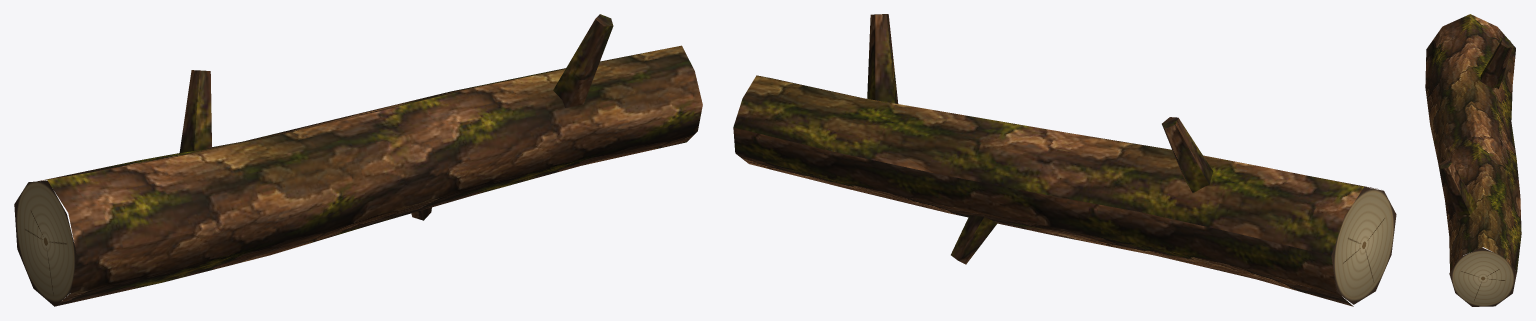
Rendered from tree_felled_log.glb.
The picture shows the model from 3 angles, left to right: view 1: azimuth 30°, elevation 25°; view 2: azimuth 150°, elevation 25°; view 3: azimuth 270°, elevation 25°; orthographic projection. The views are drawn at different scales.
Parts seen in each view (by area): view 1: tree_felled_log; view 2: tree_felled_log; view 3: tree_felled_log.
Part boxes in pixels (left/top/right/bottom): tree_felled_log: left=14, top=14, right=702, bottom=306; tree_felled_log: left=733, top=14, right=1396, bottom=306; tree_felled_log: left=1425, top=14, right=1521, bottom=306.
Size of the model in its own units: 3.63 by 1.11 by 0.6883.
2 materials, 2 textured.
